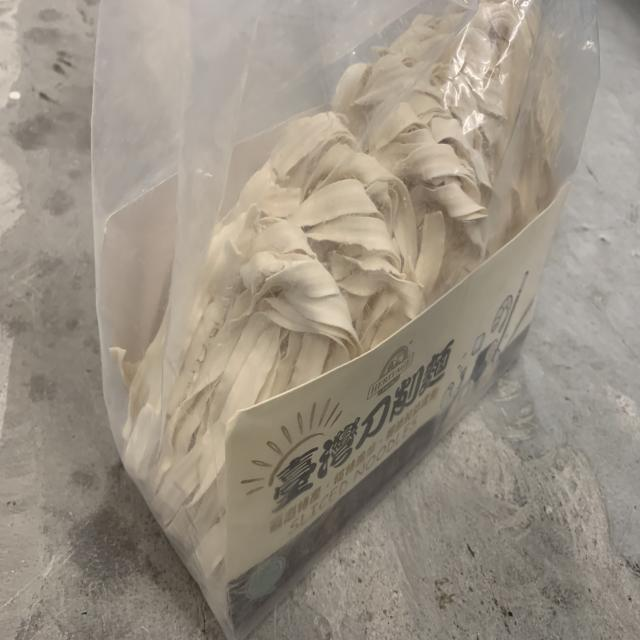object_name: (110, 21, 559, 543)
